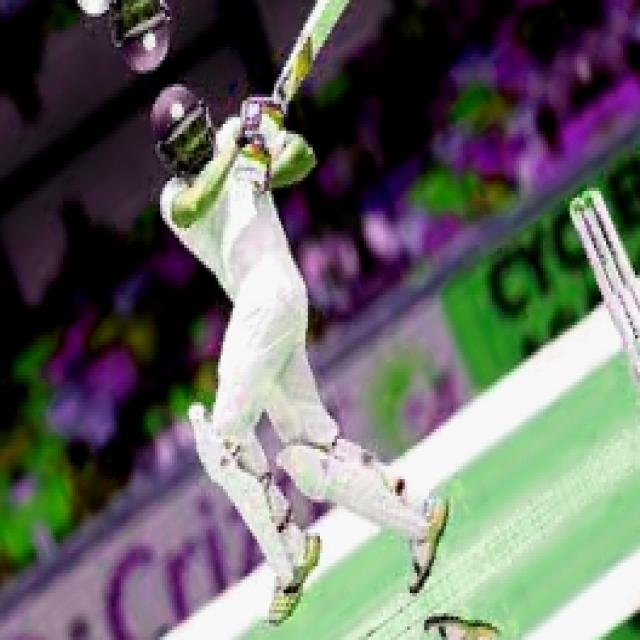toe: (317, 0, 352, 16)
